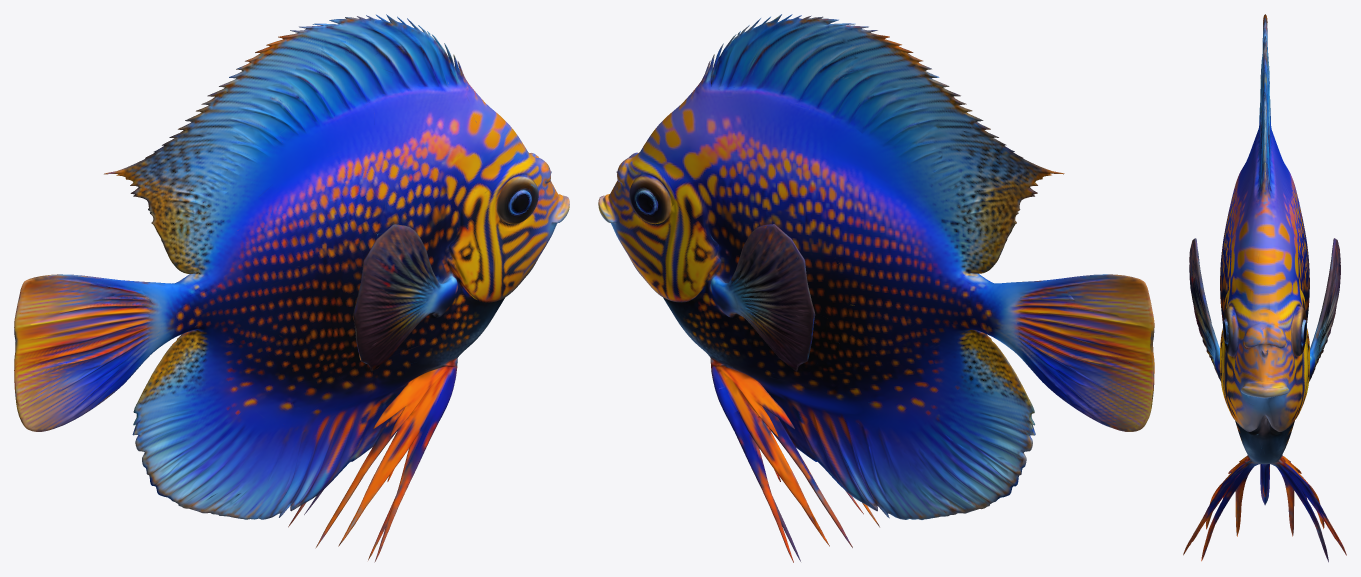
Rendered from discus fish.glb.
The picture shows the model from 3 angles, left to right: view 1: azimuth 30°, elevation 25°; view 2: azimuth 150°, elevation 25°; view 3: azimuth 270°, elevation 25°; orthographic projection.
Parts seen in each view (by area): view 1: material; view 2: material; view 3: material.
Part boxes in pixels (x1=…): material: x1=14, y1=14, x2=569, y2=562; material: x1=598, y1=14, x2=1154, y2=562; material: x1=1183, y1=14, x2=1346, y2=562.
Bounding box in the file's own units: 1.19 × 1.07 × 0.303.
1 material, 1 textured.
